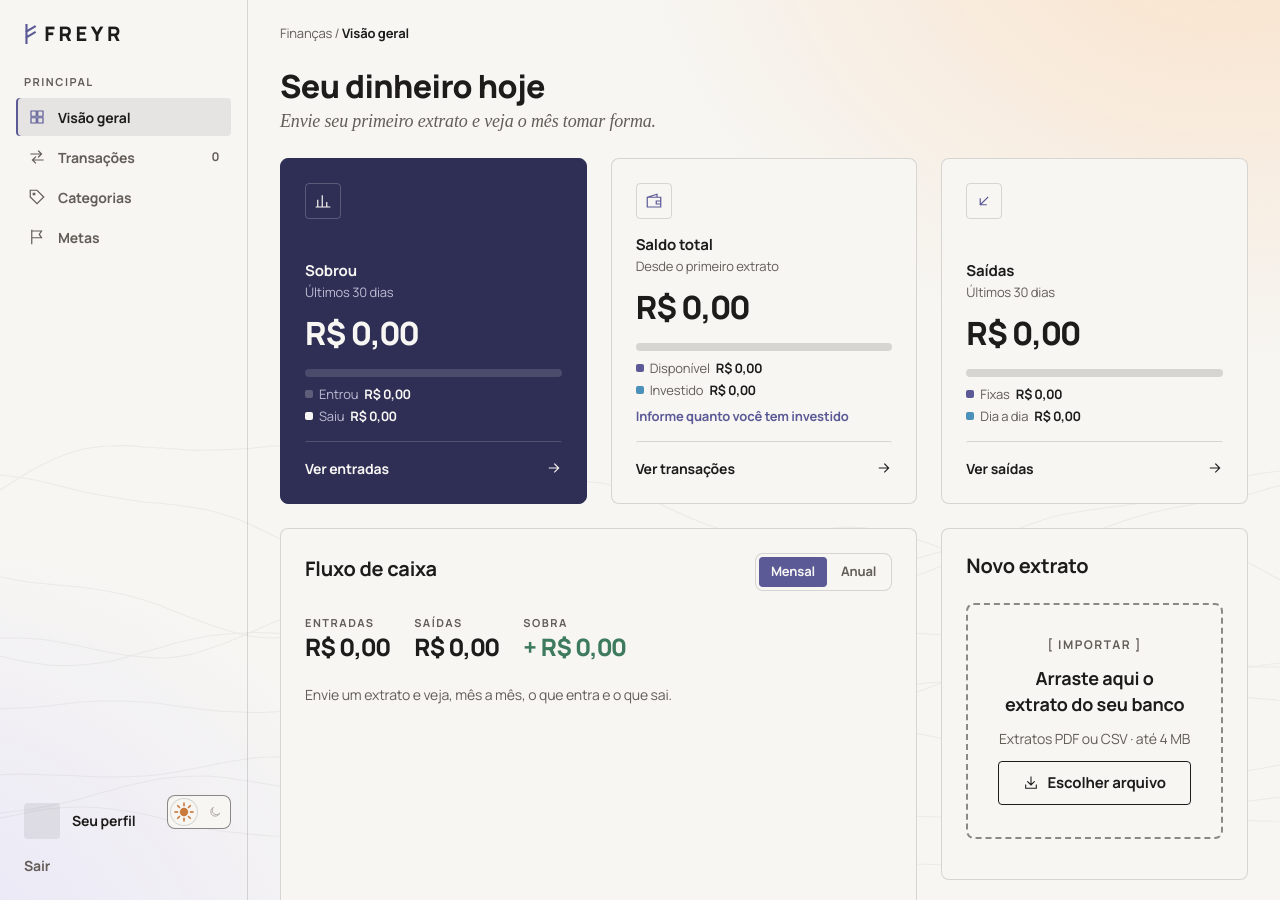
Test case: App › switches pages from the side nav
Click the link "Transações 0" at (124, 157), box [28,148,219,166]
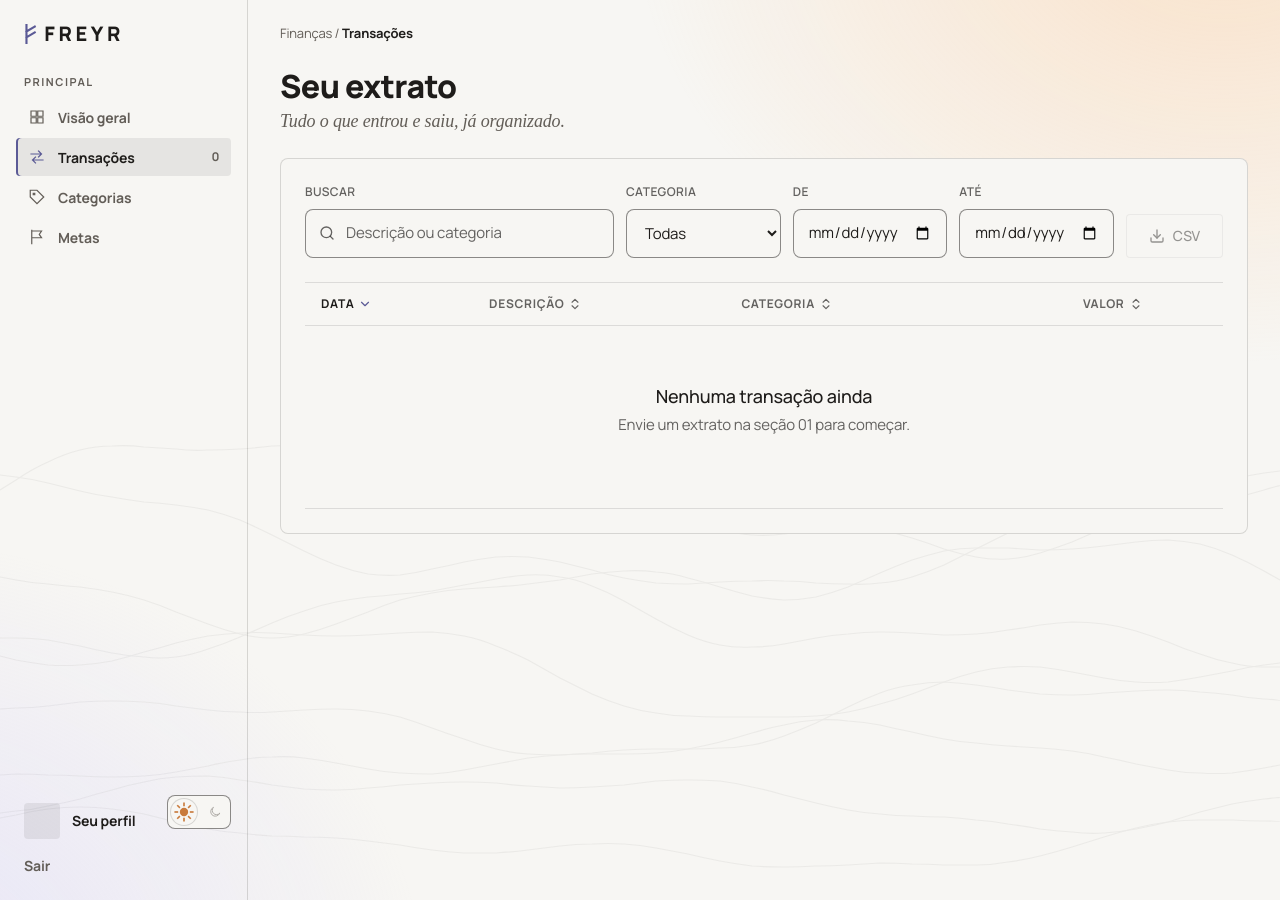
Check: the heading "Seu extrato" is shown, box [280,64,456,108]
Check: the heading "Seu dinheiro hoje" is gone
